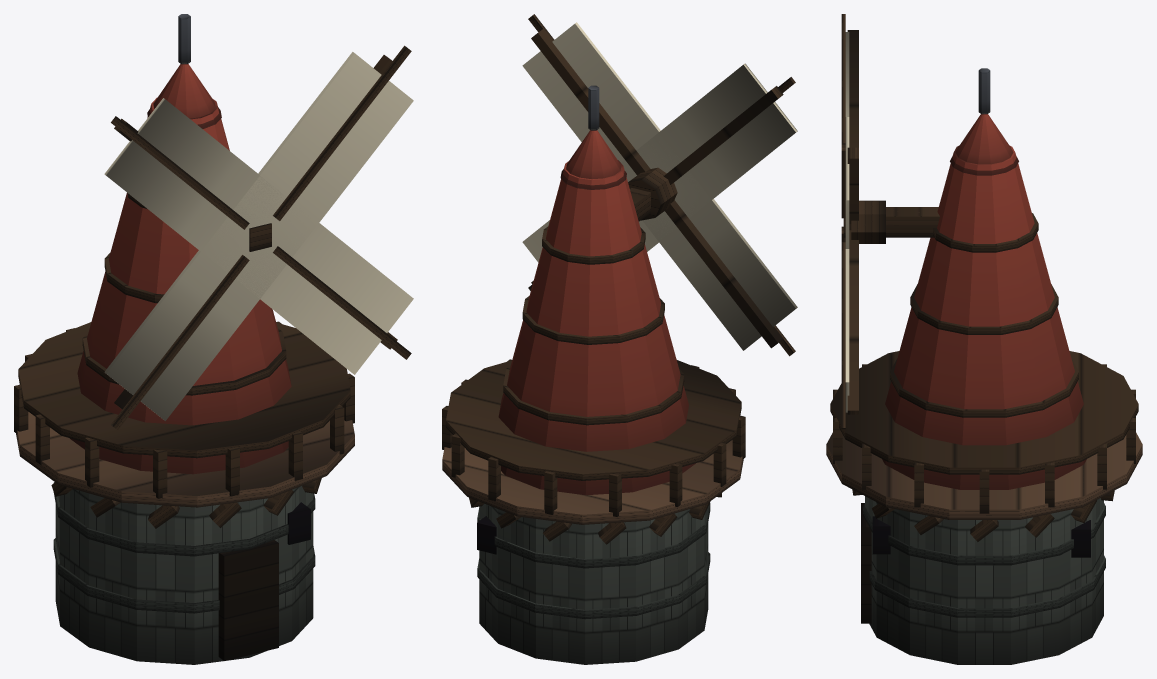
The model's file is windmill.obj.
3 renders of one model, left to right at view 1: azimuth 30°, elevation 25°; view 2: azimuth 150°, elevation 25°; view 3: azimuth 270°, elevation 25°, orthographic. The views are drawn at different scales.
Parts seen in each view (by area): view 1: windmill; view 2: windmill; view 3: windmill.
Boxes of the visible parts, left/top/right/bottom form: windmill: left=14, top=14, right=413, bottom=664; windmill: left=442, top=14, right=797, bottom=664; windmill: left=826, top=14, right=1142, bottom=664.
Size of the model in its own units: 1.69 by 3.12 by 1.64.
1 material, 1 textured.
